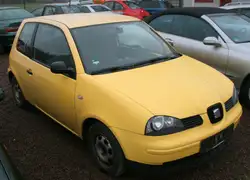car: (7, 15, 242, 167), (148, 8, 249, 83), (1, 5, 35, 44), (32, 4, 86, 23), (103, 0, 146, 21), (72, 0, 112, 17)
